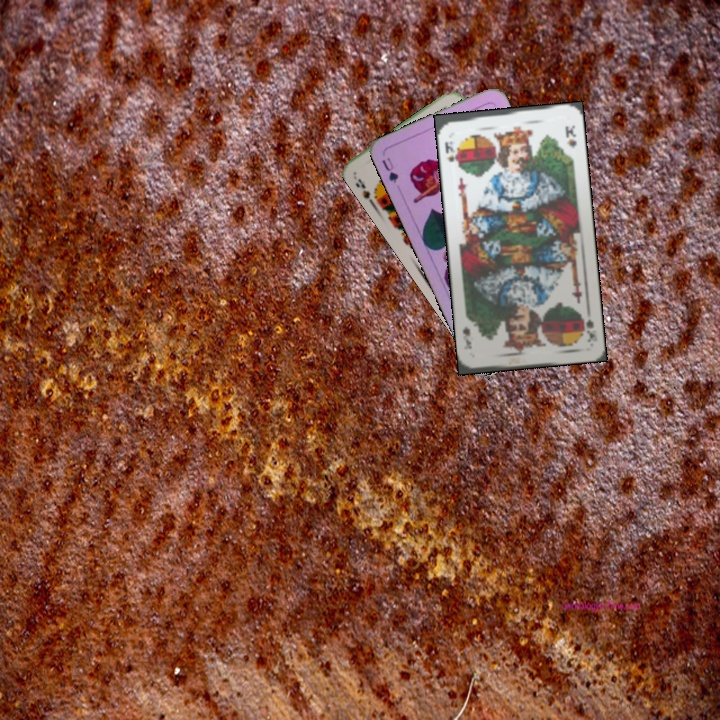GU: (377, 153, 401, 186)
S9: (351, 174, 384, 209)
SK: (578, 309, 597, 344), (441, 137, 461, 169)
